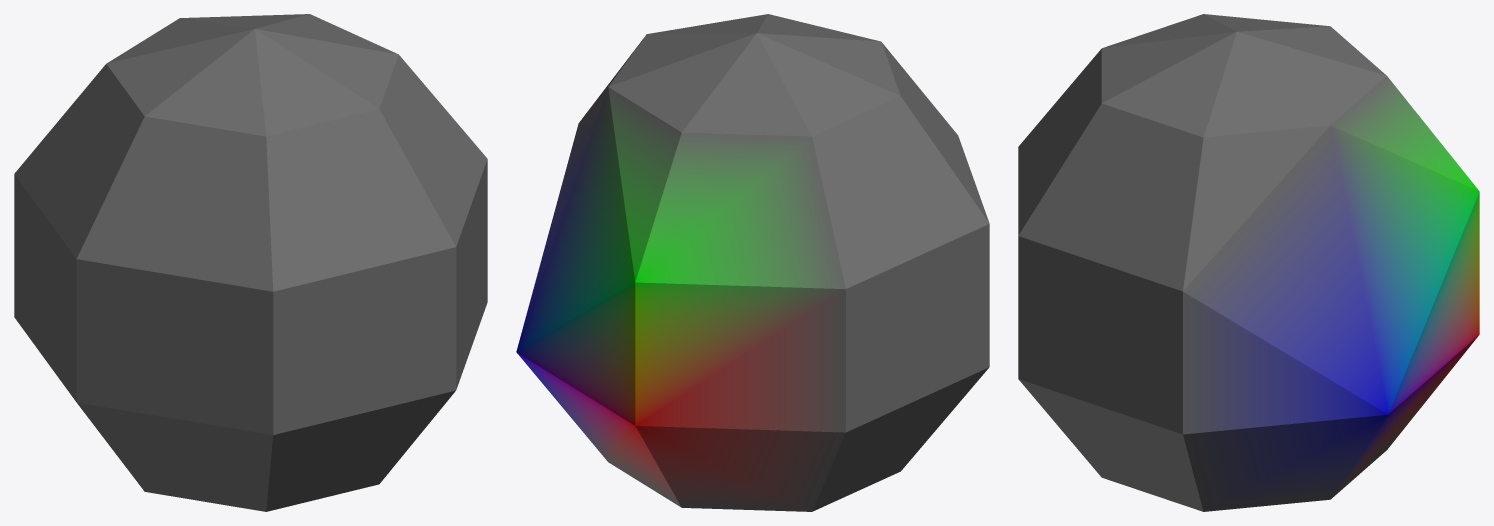
File: decimating_conquest_1_2.obj
The picture shows the model from 3 angles, left to right: view 1: azimuth 30°, elevation 25°; view 2: azimuth 150°, elevation 25°; view 3: azimuth 270°, elevation 25°; orthographic projection.
Size of the model in its own units: 1.85 by 2 by 1.81.
